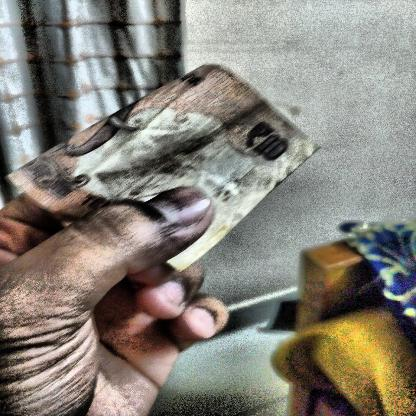Rs10: (232, 116, 302, 169)
